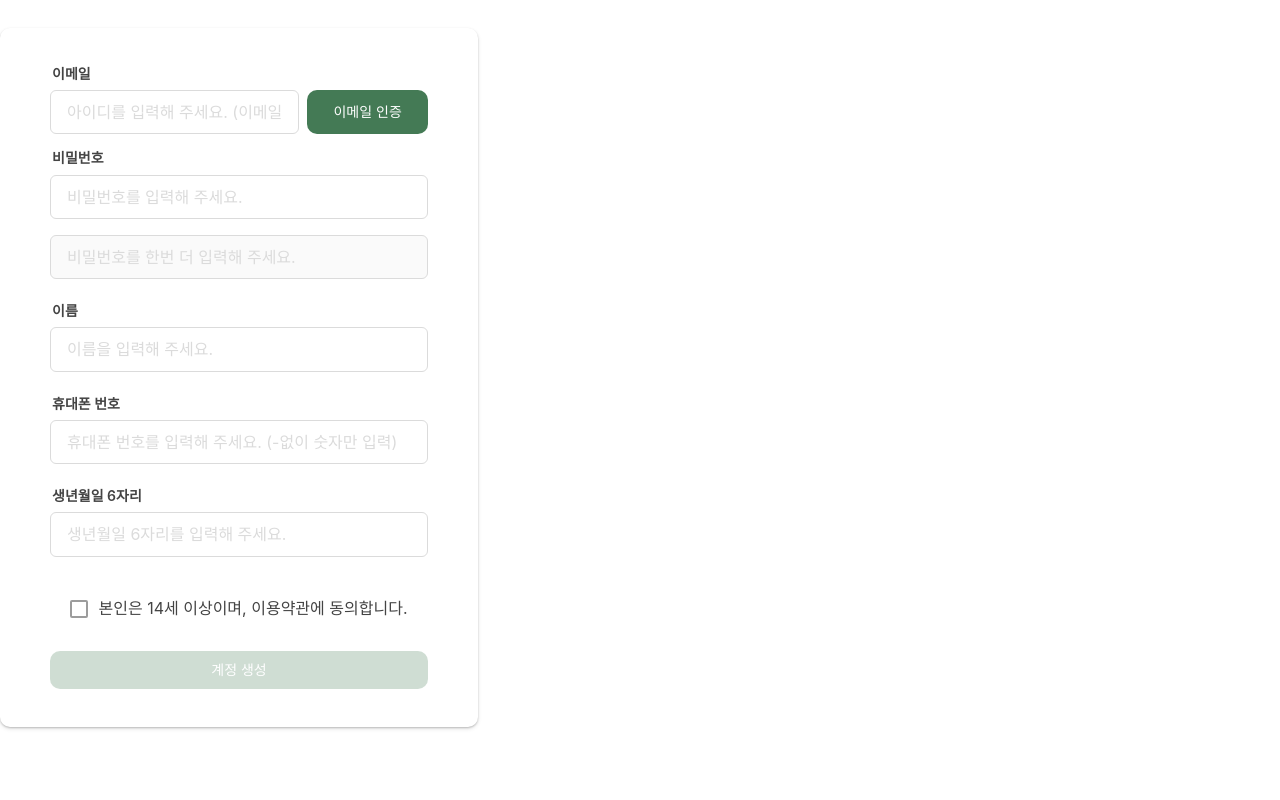
it: JoinForm 컴포넌트 테스트 › 이메일 › 화면에 보이는 인증 시간이 시간에 따라 감소해야 한다.
The image size is (1280, 800).
Type "example@gmail.com" into the field labelled "이메일" at x=175, y=112, box x1=50 y1=90 x2=299 y2=134
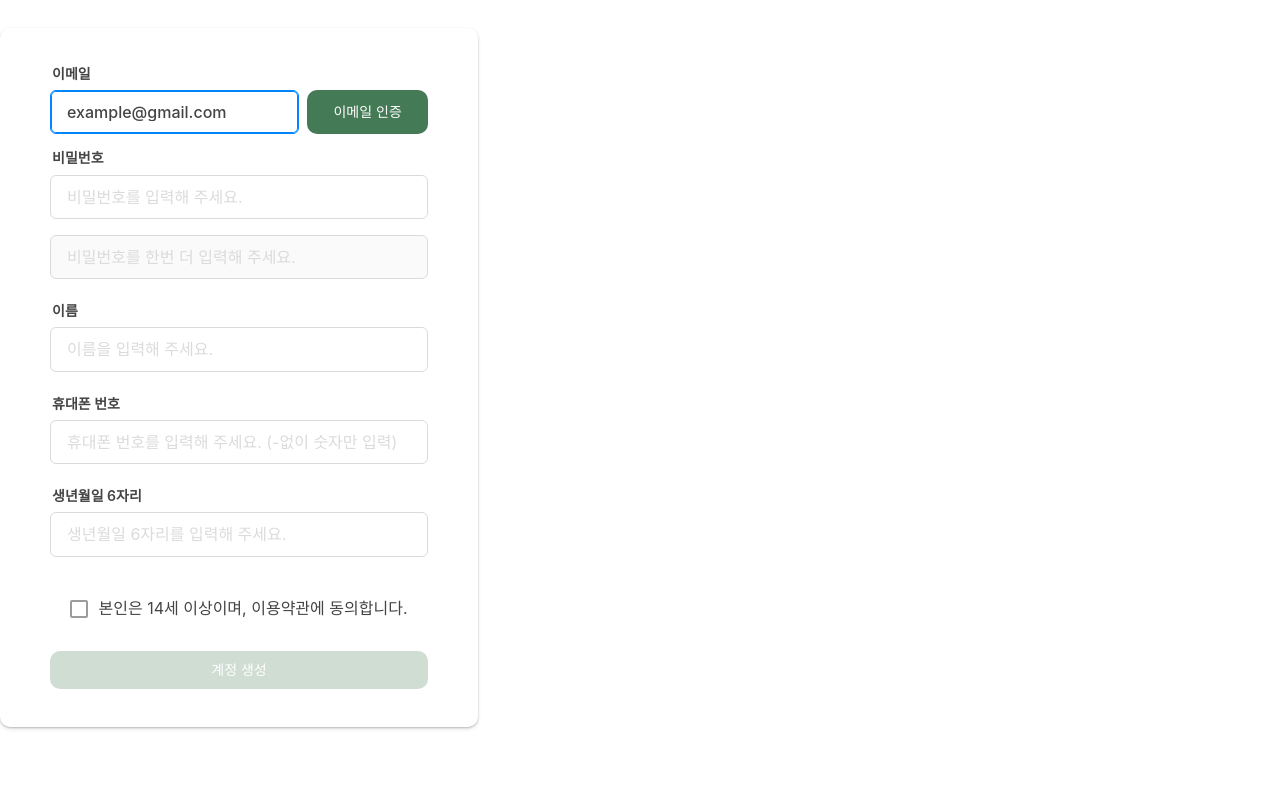
Click the button "이메일 인증" at x=368, y=112, box x1=307 y1=90 x2=428 y2=134
Wait 60000 ms
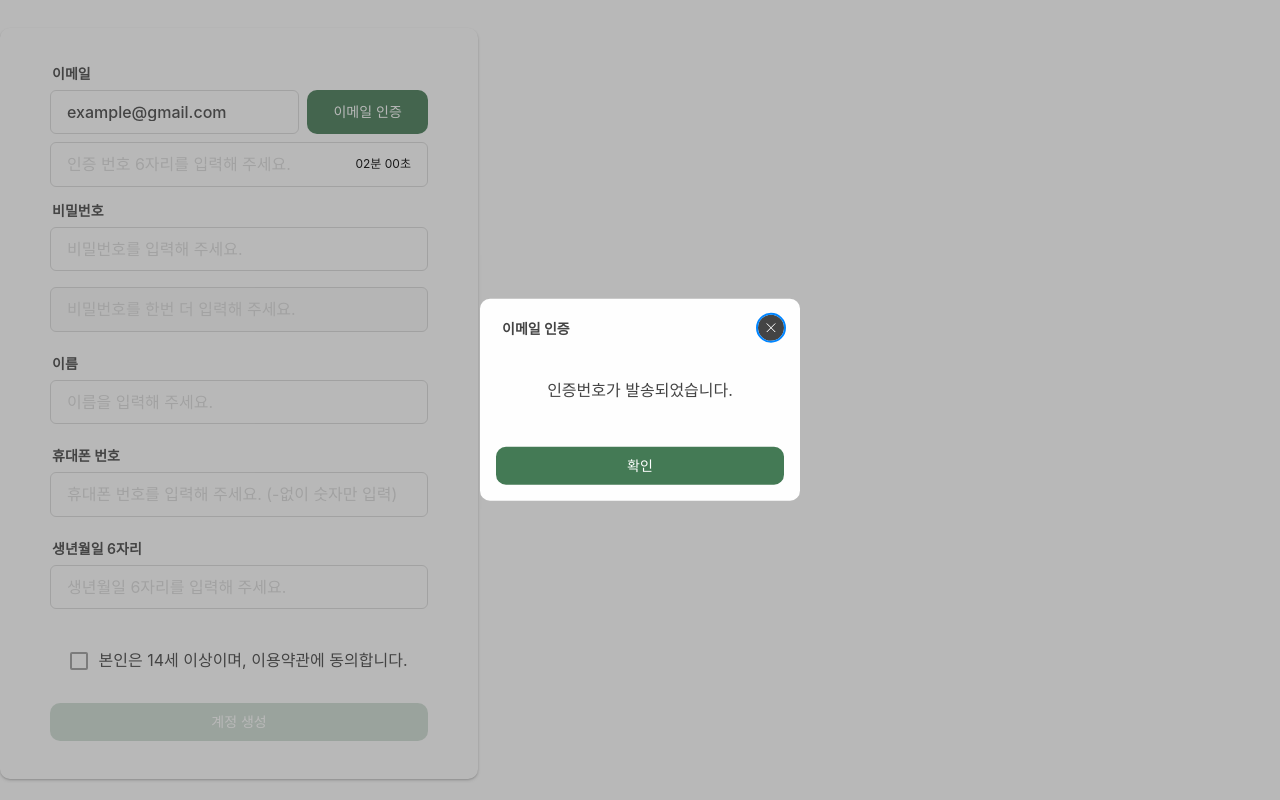
Check: the text "02분 00초" is shown, box x1=356 y1=156 x2=411 y2=172
